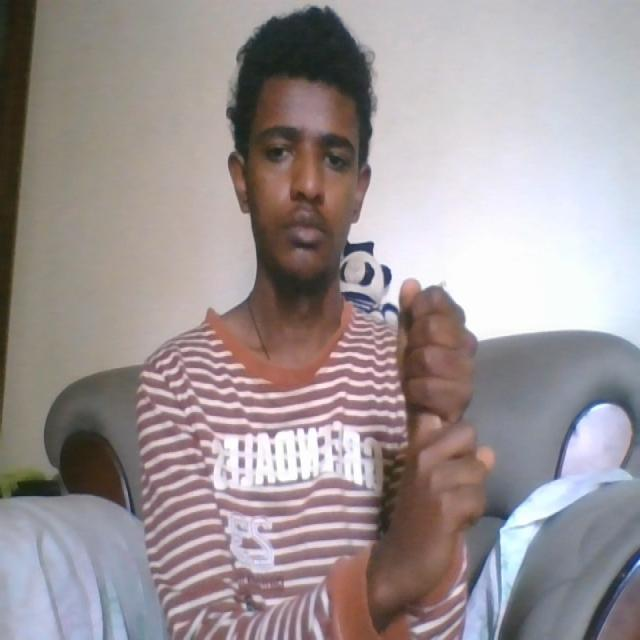meyaz: (387, 278, 494, 600)
